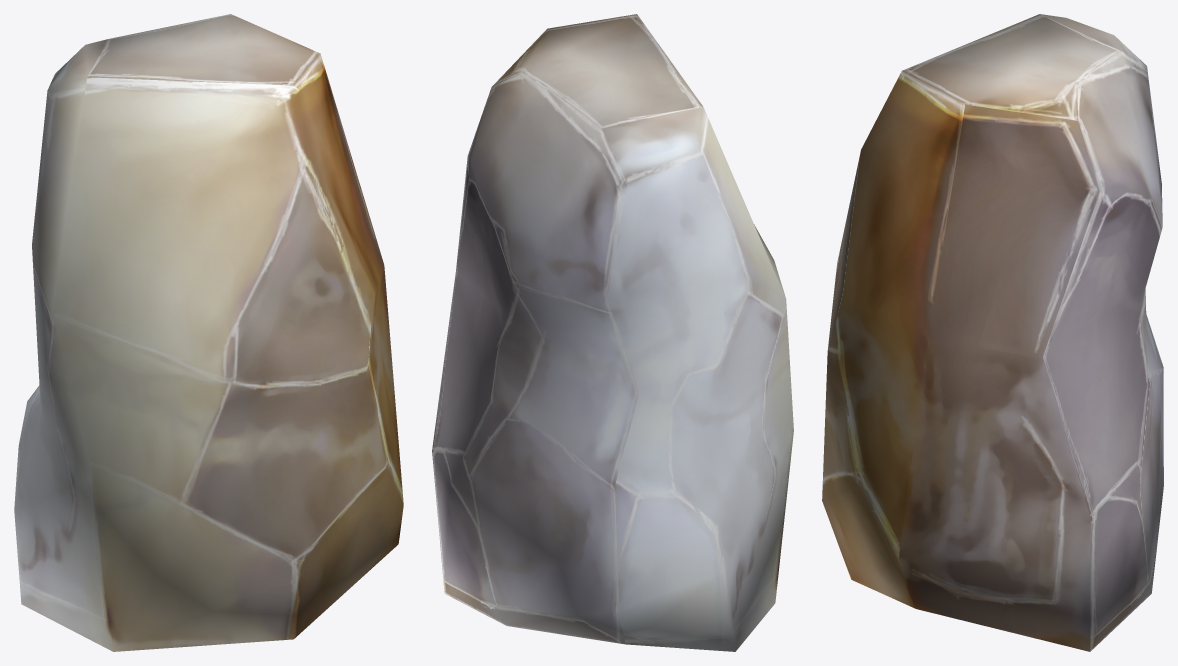
The model's file is rock_2.fbx.
3 renders of one model, left to right at view 1: azimuth 30°, elevation 25°; view 2: azimuth 150°, elevation 25°; view 3: azimuth 270°, elevation 25°, orthographic.
Visible parts, largest first — view 1: rock_2; view 2: rock_2; view 3: rock_2.
Part boxes in pixels (x1=…): rock_2: x1=14, y1=14, x2=403, y2=651; rock_2: x1=432, y1=14, x2=793, y2=651; rock_2: x1=822, y1=14, x2=1163, y2=651.
Size of the model in its own units: 2.3 by 3.88 by 2.24.
